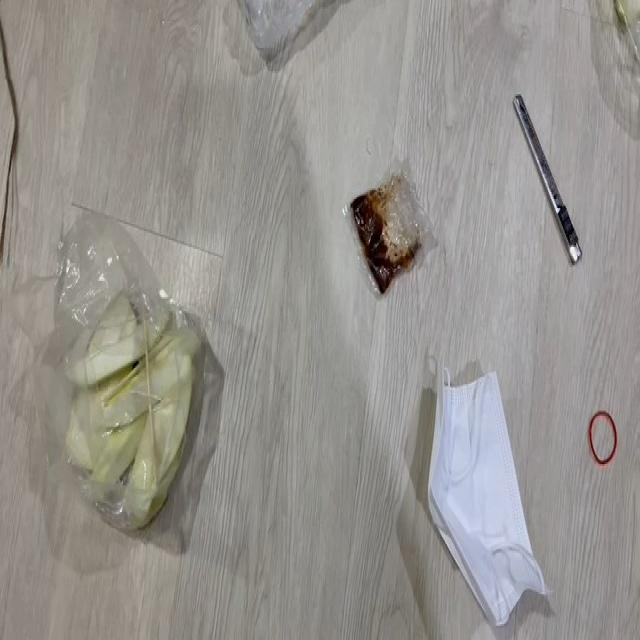Anorganik: (501, 86, 606, 266), (225, 0, 326, 69), (585, 406, 625, 466)
B3: (38, 294, 198, 543), (421, 353, 556, 625), (337, 138, 438, 302), (0, 2, 24, 258)
